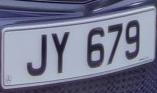6: (85, 19, 108, 76)
7: (106, 19, 126, 70)
9: (124, 15, 143, 64)
J: (23, 27, 52, 81)
Y: (49, 25, 75, 76)
